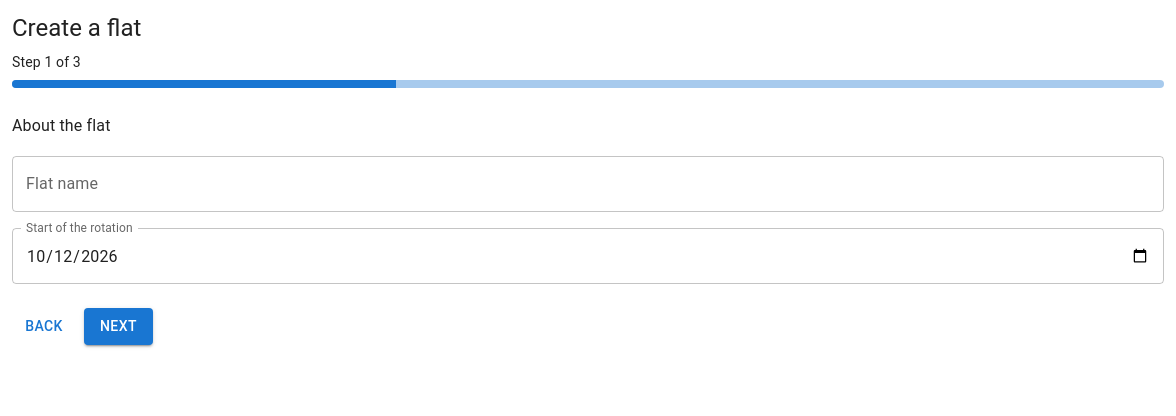
Test: CreateFlatForm › keeps what was typed when going back and forth
The width and height of the screenshot is (1176, 416).
Type "  Our flat " into the field labelled "Flat name" at (588,184), box [12,156,1164,212]
Click the button "Next" at (118,326), box [84,308,153,344]
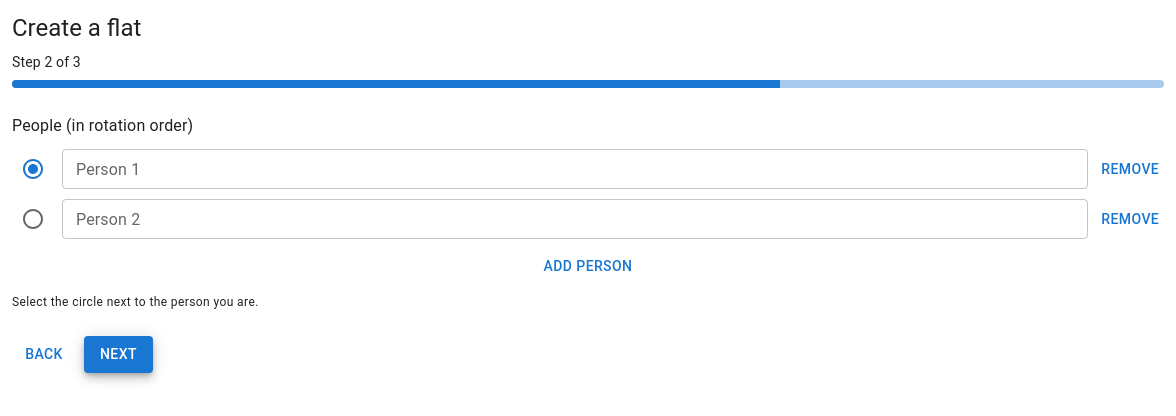
Type "Ana" into the field labelled "Person 1" at (575,169), box [62,149,1088,189]
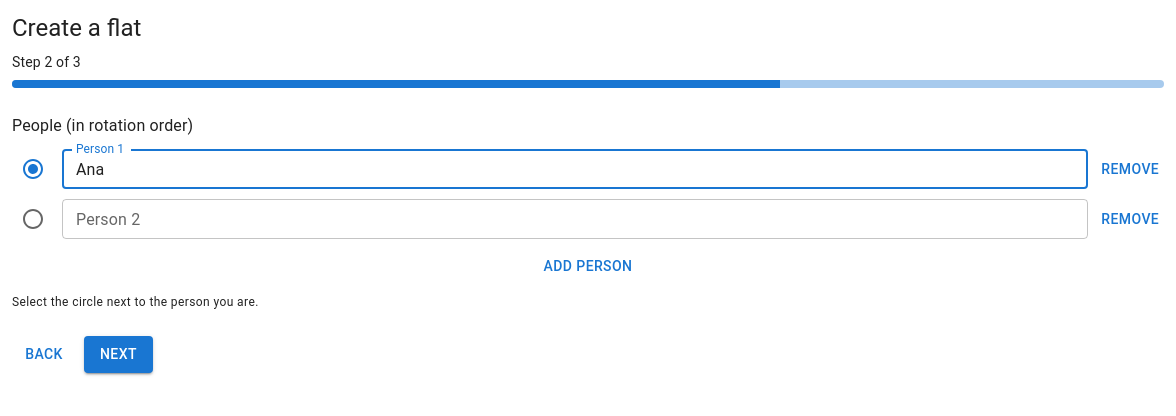
Type "Ben" into the field labelled "Person 2" at (575,219), box [62,199,1088,239]
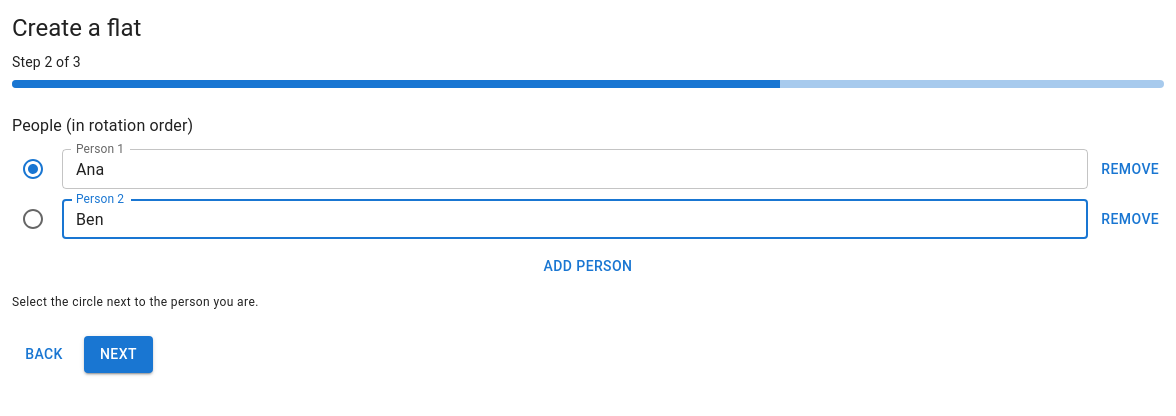
Click the button "Next" at (118,355), box [84,336,153,373]
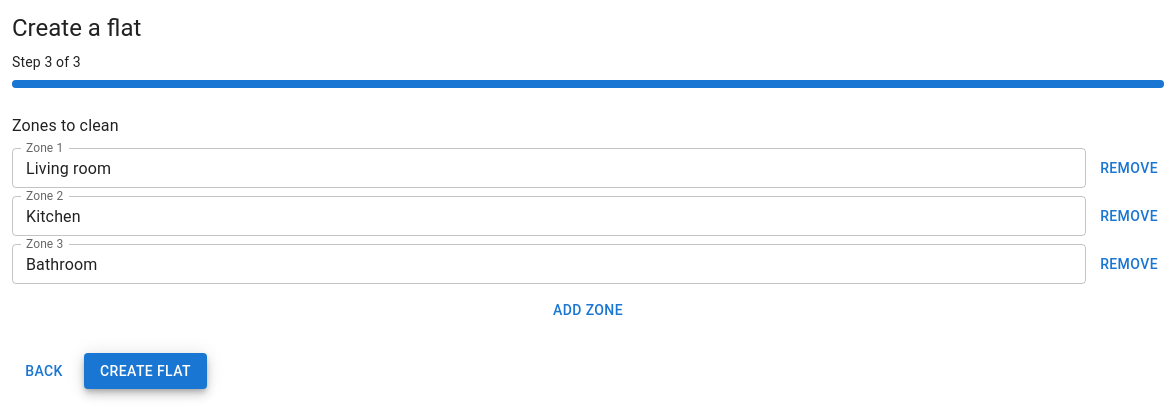
Click the button "Back" at (44,371), box [12,352,76,389]
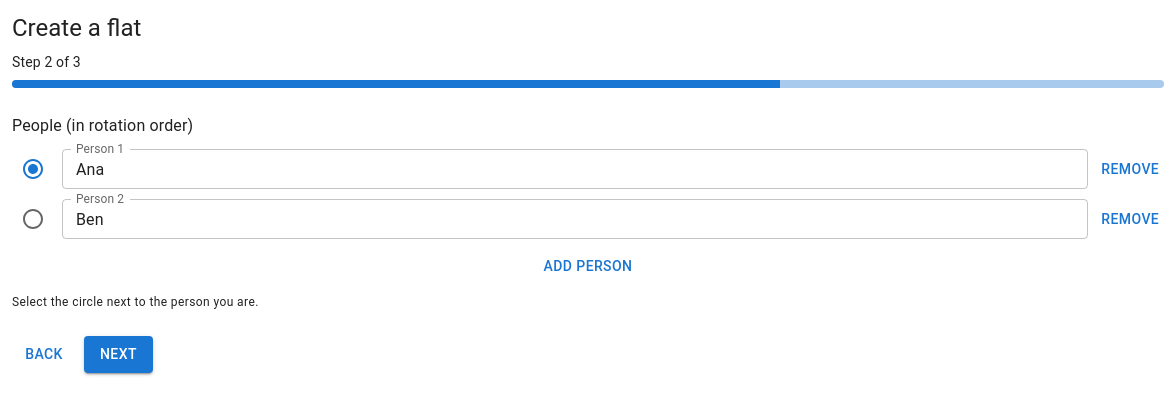
Expected: the field labelled "Person 2" holds "Ben", [62,199,1088,239]
Click the button "Back" at (44,355), box [12,336,76,373]
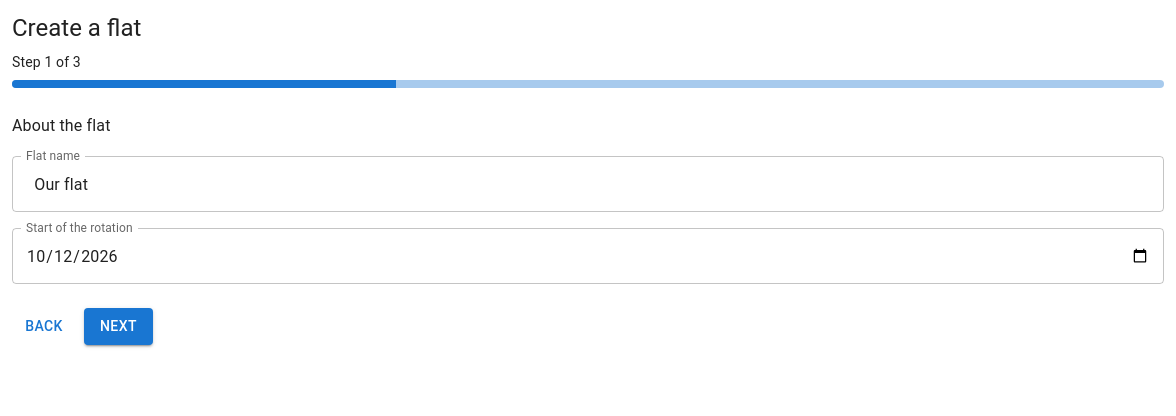
Expected: the field labelled "Flat name" holds "  Our flat ", [12,156,1164,212]
